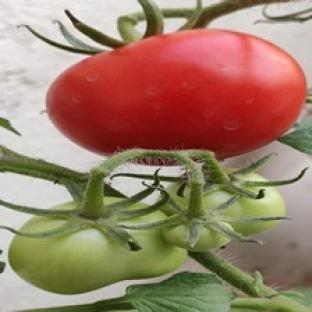Tomato: (46, 30, 306, 158), (9, 225, 186, 293), (218, 187, 285, 236), (163, 225, 231, 252)
